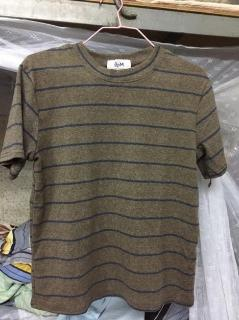short sleeve top: (0, 41, 229, 316)
